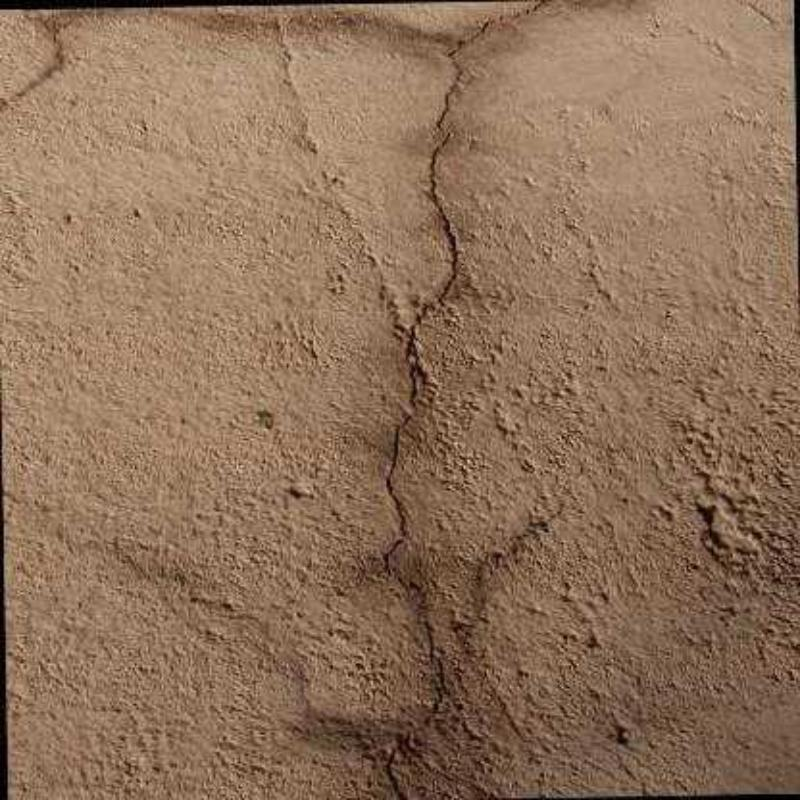pothole: (378, 0, 558, 800)
